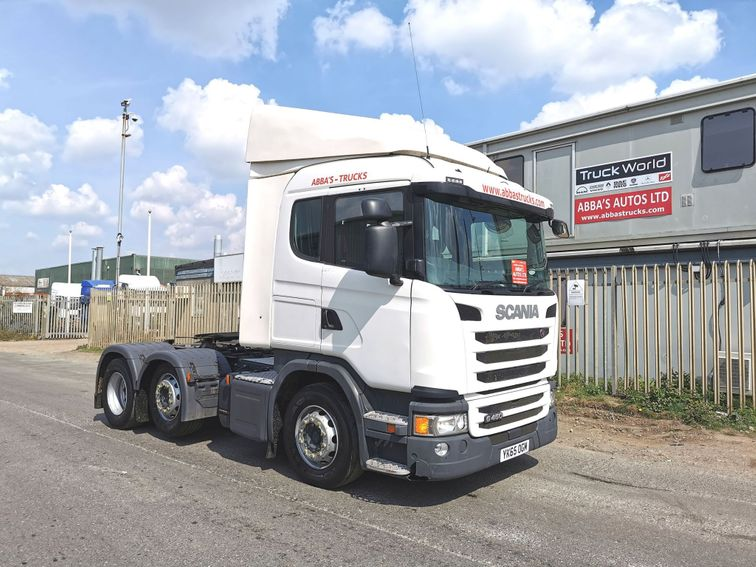Semi: (92, 108, 560, 487)
